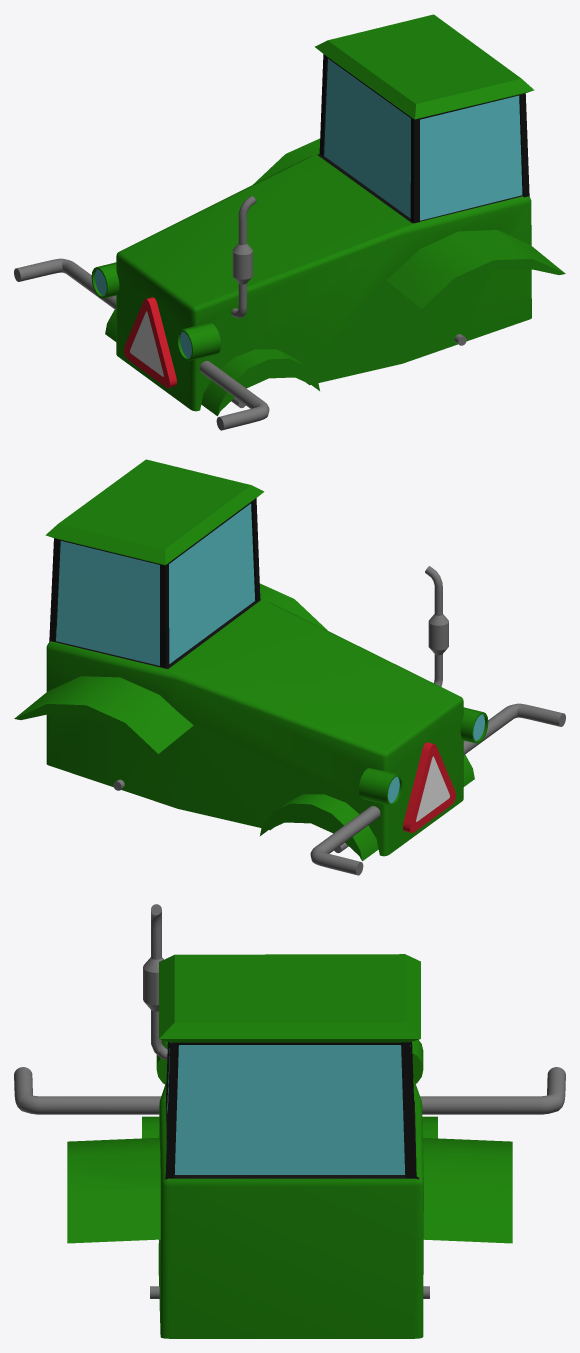
File: SM_Tractor.fbx
The picture shows the model from 3 angles, top to bottom: view 1: azimuth 30°, elevation 25°; view 2: azimuth 150°, elevation 25°; view 3: azimuth 270°, elevation 25°; orthographic projection. The views are drawn at different scales.
Visible parts, largest first — view 1: Tractor; view 2: Tractor; view 3: Tractor.
Part boxes in pixels (<box>): Tractor: <box>14,14,565,430</box>; Tractor: <box>14,459,565,875</box>; Tractor: <box>14,904,565,1338</box>.
Size of the model in its own units: 862 by 619 by 856.
